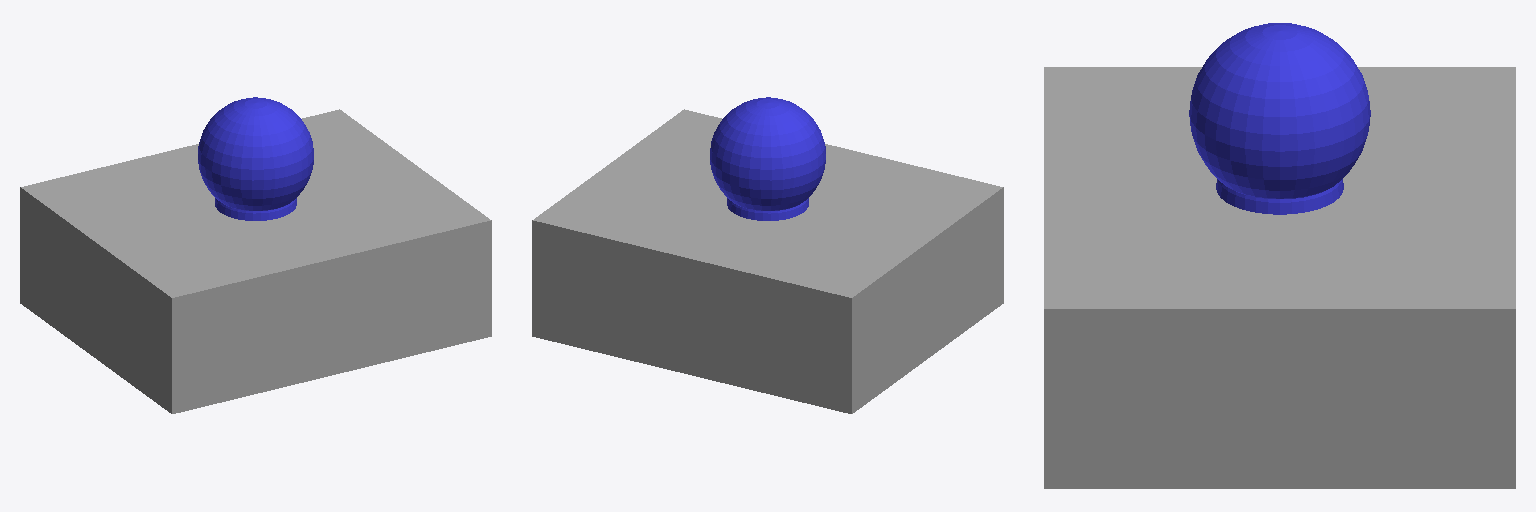
robot.urdf — evolved_robot:
<?xml version="1.0"?>
<robot name="evolved_robot">
  <material name="metal">
    <color rgba="0.7 0.7 0.7 1.0"/>
  </material>
  <material name="plastic">
    <color rgba="0.3 0.3 0.9 1.0"/>
  </material>
  <material name="rubber">
    <color rgba="0.1 0.1 0.1 1.0"/>
  </material>
  <material name="red">
    <color rgba="1.0 0.0 0.0 1.0"/>
  </material>
  <material name="wheel_material">
    <color rgba="0.2 0.2 0.2 1.0"/>
  </material>
  <link name="base_link">
    <visual>
      <geometry><box size="0.34879374961555876 0.2867757265282742 0.12138160494244313"/></geometry>
      <material name="metal"/>
    </visual>
    <collision>
      <geometry><box size="0.34879374961555876 0.2867757265282742 0.12138160494244313"/></geometry>
    </collision>
    <inertial>
      <mass value="5.0"/>
      <inertia ixx="0.08081150945351905" ixy="0" ixz="0" 
               iyy="0.11365881149107036" iyz="0" 
               izz="0.16991449758058386"/>
    </inertial>
  </link>
  <link name="link1">
    <visual>
      <geometry><sphere radius="0.038968192844657516"/></geometry>
      <material name="plastic"/>
    </visual>
    <collision>
      <geometry><sphere radius="0.038968192844657516"/></geometry>
    </collision>
    <inertial>
      <mass value="0.5"/>
      <inertia ixx="0.0006074080214313669" ixy="0" ixz="0" 
               iyy="0.0006074080214313669" iyz="0" 
               izz="0.0006074080214313669"/>
    </inertial>
  </link>
  <joint name="joint1" type="revolute">
    <parent link="base_link"/>
    <child link="link1"/>
    <origin xyz="0 0 0.060690802471221564" rpy="0 0 0"/>
    <axis xyz="0.7590999362456892 -0.5425448325609833 -0.35973933820638143"/>
    <dynamics damping="0.7491799144562219" friction="0.1"/>
    <limit lower="-2.1680071736017976" upper="1.0936309539748783" effort="100" velocity="100"/>
  </joint>
  <link name="link2">
    <visual>
      <geometry>
        <cylinder radius="0.06309177534795424" length="0.04130148012113678"/>
      </geometry>
      <material name="wheel_material"/>
    </visual>
    <collision>
      <geometry>
        <cylinder radius="0.06309177534795424" length="0.04130148012113678"/>
      </geometry>
    </collision>
    <inertial>
      <mass value="1.0"/>
      <inertia ixx="0.0011372940508222362" ixy="0" ixz="0" 
               iyy="0.0011372940508222362" iyz="0" 
               izz="0.001990286058278363"/>
    </inertial>
  </link>
  <joint name="joint2" type="continuous">
    <parent link="base_link"/>
    <child link="link2"/>
    <origin xyz="0 0 0" rpy="1.5708 0 0"/>
    <axis xyz="0 1 0"/>
    <dynamics damping="0.8580717811056615" friction="0.1"/>
  </joint>
  <link name="link3">
    <visual>
      <geometry><sphere radius="0.05531625910761198"/></geometry>
      <material name="plastic"/>
    </visual>
    <collision>
      <geometry><sphere radius="0.05531625910761198"/></geometry>
    </collision>
    <inertial>
      <mass value="0.5"/>
      <inertia ixx="0.0012239554086641861" ixy="0" ixz="0" 
               iyy="0.0012239554086641861" iyz="0" 
               izz="0.0012239554086641861"/>
    </inertial>
  </link>
  <joint name="joint3" type="floating">
    <parent link="base_link"/>
    <child link="link3"/>
    <origin xyz="0 0 0.11069080247122157" rpy="0 0 0"/>
    <axis xyz="0.36290759364685826 0.23275981439638746 -0.9022865106359542"/>
    <dynamics damping="0.7719846144977497" friction="0.1"/>
  </joint>
</robot>

--- What the picture shows (computed from the rendered views, not written in the file) ---
Views: 3 orthographic renders of the robot side by side, from view 1: azimuth 30°, elevation 25°; view 2: azimuth 150°, elevation 25°; view 3: azimuth 270°, elevation 25°.
Robot: evolved_robot — 4 links, 3 joints (1 revolute, 1 continuous, 1 floating); root link base_link; default pose: every joint at zero.
Visible links, largest first — view 1: base_link, link3, link1; view 2: base_link, link3, link1; view 3: base_link, link3, link1.
Boxes of the visible links, left/top/right/bottom form: base_link: left=20, top=109, right=491, bottom=413; link3: left=198, top=97, right=313, bottom=210; link1: left=215, top=198, right=296, bottom=220; base_link: left=532, top=109, right=1003, bottom=413; link3: left=710, top=97, right=825, bottom=210; link1: left=727, top=198, right=808, bottom=220; base_link: left=1044, top=67, right=1515, bottom=488; link3: left=1189, top=23, right=1370, bottom=198; link1: left=1216, top=179, right=1343, bottom=214.
Size in the robot's own frame: 0.3488 by 0.2868 by 0.2291 metres.
Geometry: primitives only (box / cylinder / sphere), no mesh files.